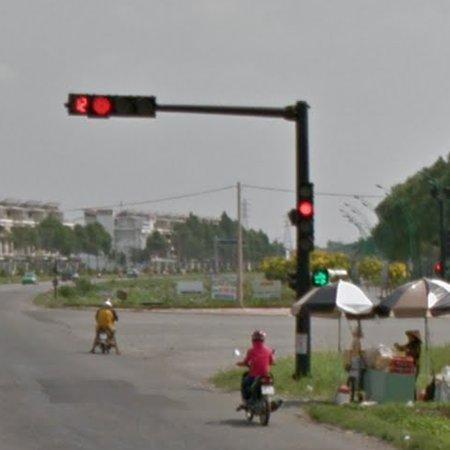traffic lights: (87, 91, 158, 120), (295, 184, 318, 255)
